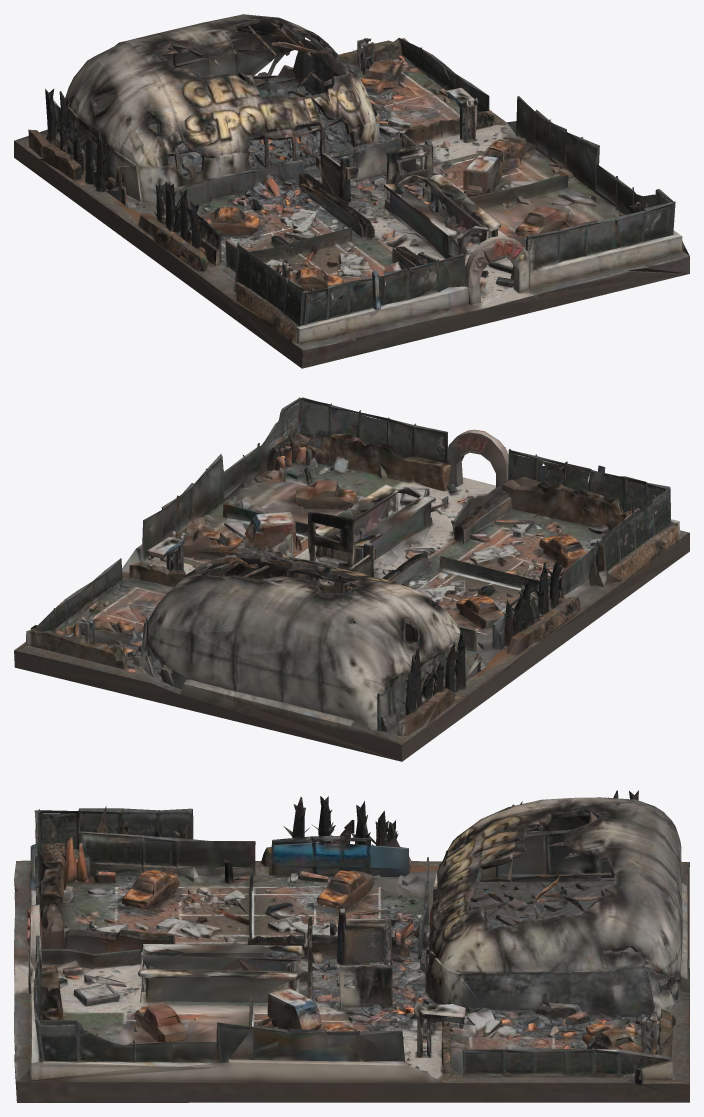
Rendered from sportivo_dev.glb.
The picture shows the model from 3 angles, top to bottom: view 1: azimuth 30°, elevation 25°; view 2: azimuth 150°, elevation 25°; view 3: azimuth 270°, elevation 25°; orthographic projection. The views are drawn at different scales.
Parts seen in each view (by area): view 1: output_unwrapped; view 2: output_unwrapped; view 3: output_unwrapped.
Part boxes in pixels (<box>): output_unwrapped: <box>14,14,689,368</box>; output_unwrapped: <box>14,397,689,761</box>; output_unwrapped: <box>14,790,689,1102</box>.
Bounding box in the file's own units: 1.49 × 0.4129 × 1.9.
1 material, 1 textured.
